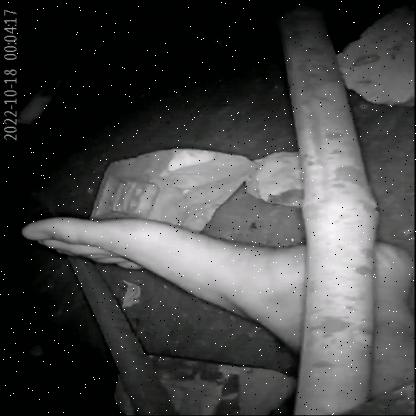leg: (24, 178, 416, 415)
